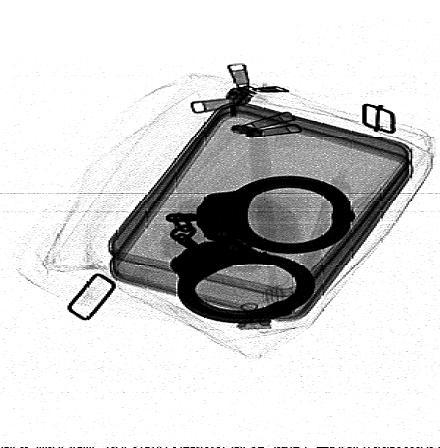HandCuffs: (165, 176, 358, 324)
